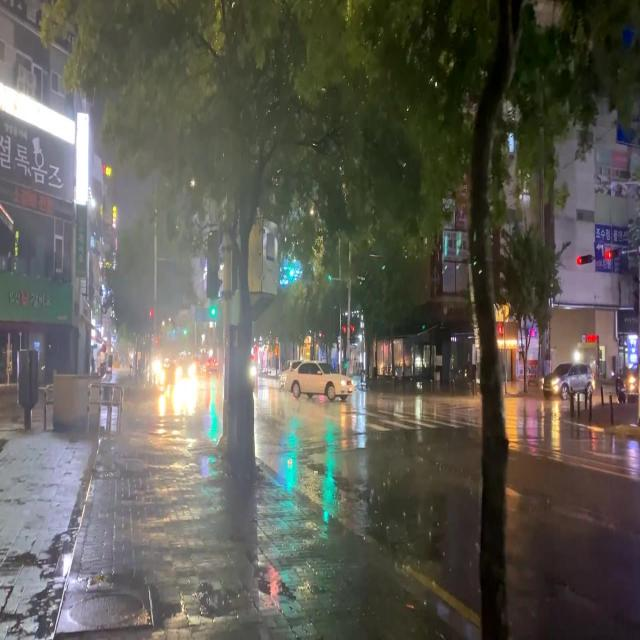Car: (283, 360, 353, 399), (538, 366, 595, 399)
